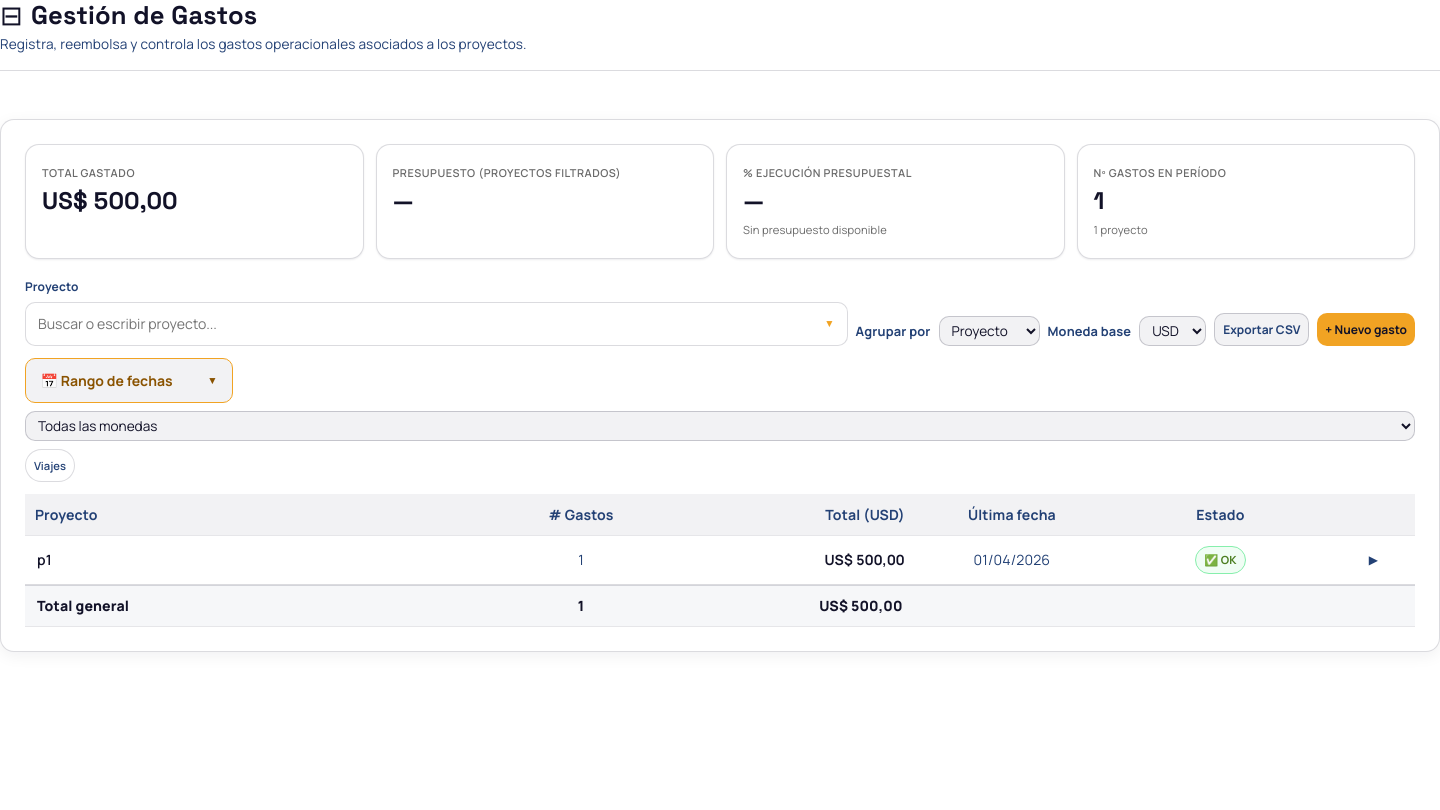
Test: Categorías de gasto desde el catálogo (D-4) › un gasto cuya categoría ya no está en el catálogo se puede seguir editando
Click the button named "Expandir detalle de": x=1373, y=560 [1365, 544, 1382, 576]
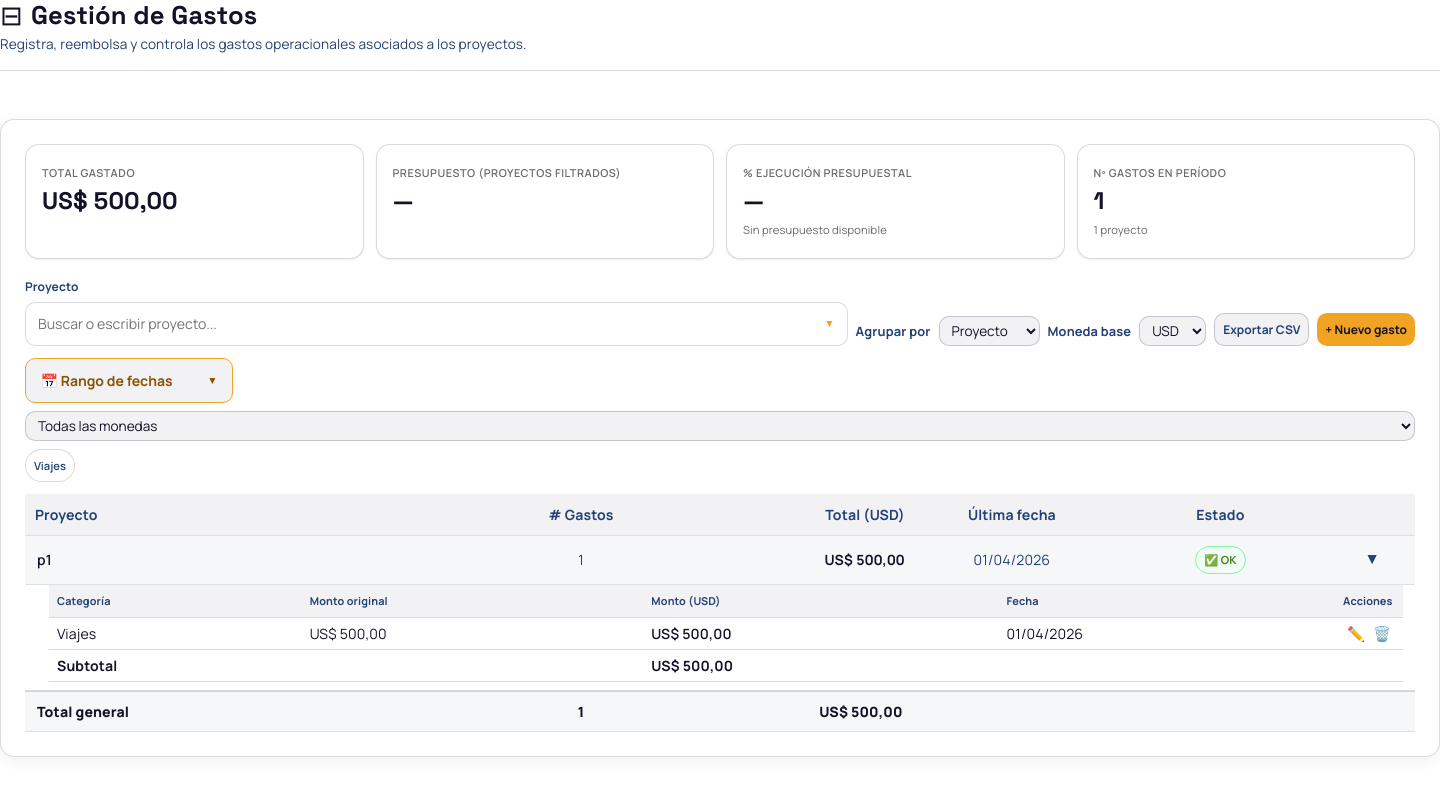
Now the button named "Editar gasto" is shown
Click the button named "Editar gasto": x=1356, y=634 [1343, 625, 1369, 642]
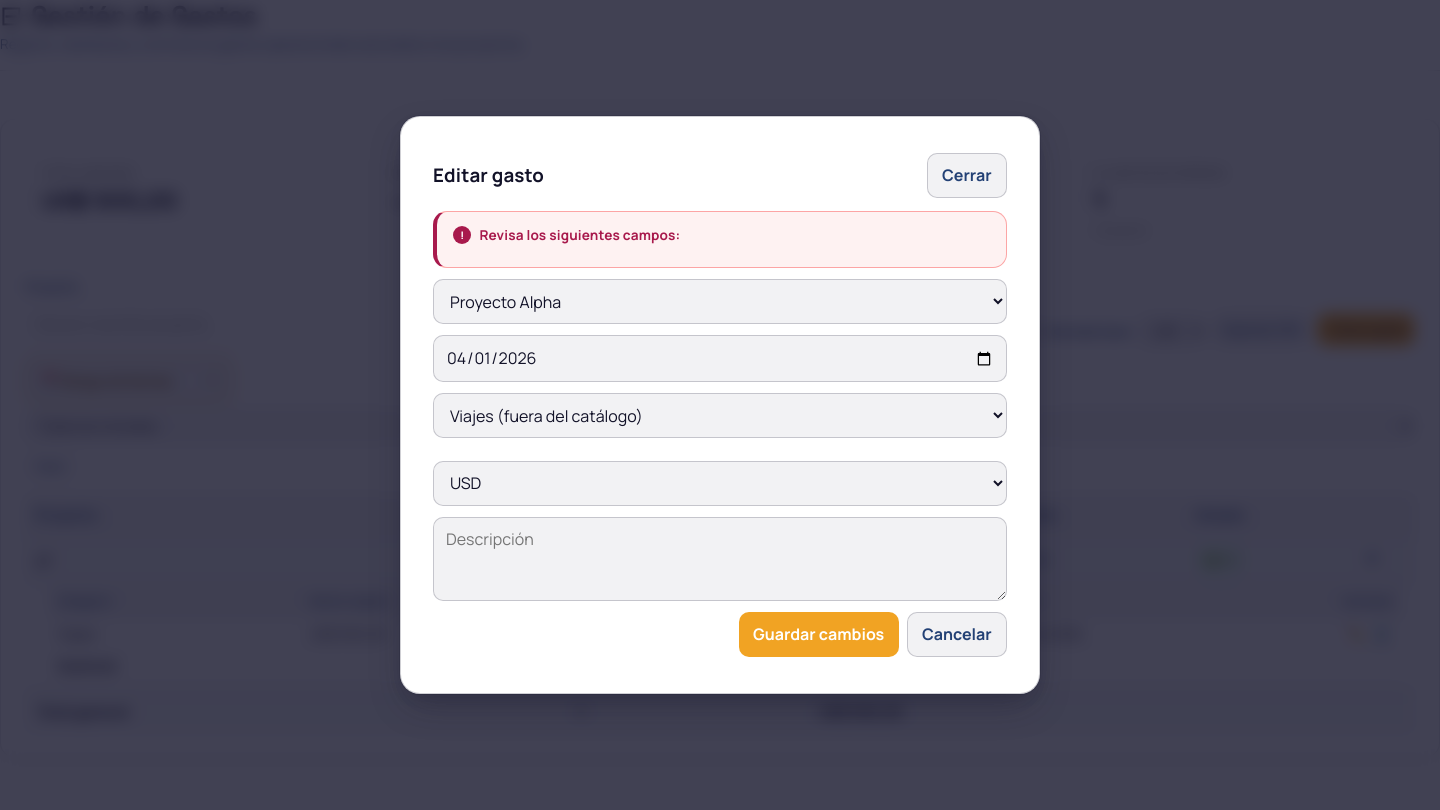
Now the dropdown named "Categoría del gasto" shows "Viajes (fuera del catálogo)", box [433, 393, 1007, 438]
